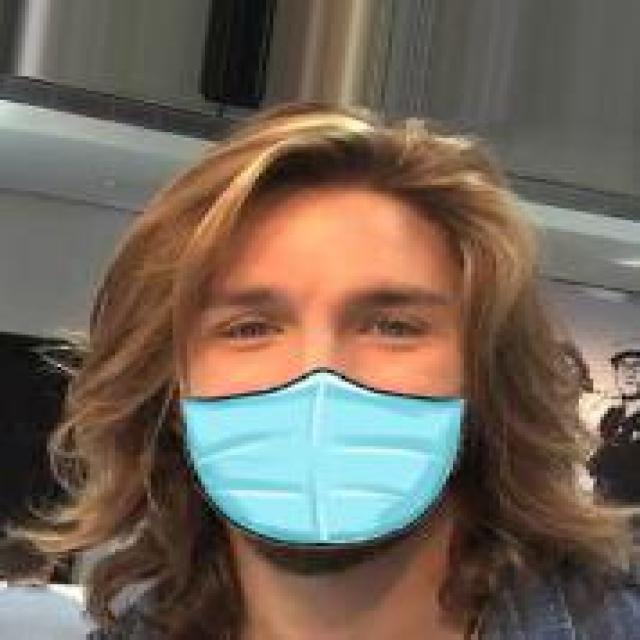mask: (54, 53, 554, 540)
